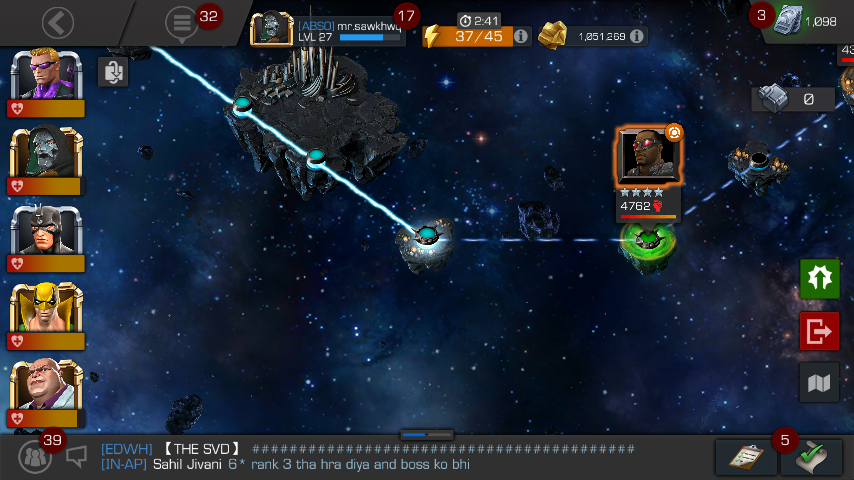green: (638, 230, 659, 246)
